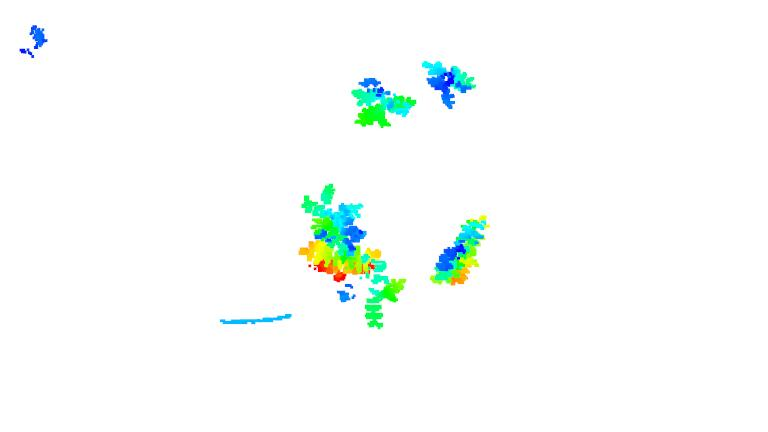chickpea: (296, 182, 380, 279), (429, 212, 490, 287), (352, 255, 411, 332), (350, 76, 417, 130), (419, 55, 476, 109)
